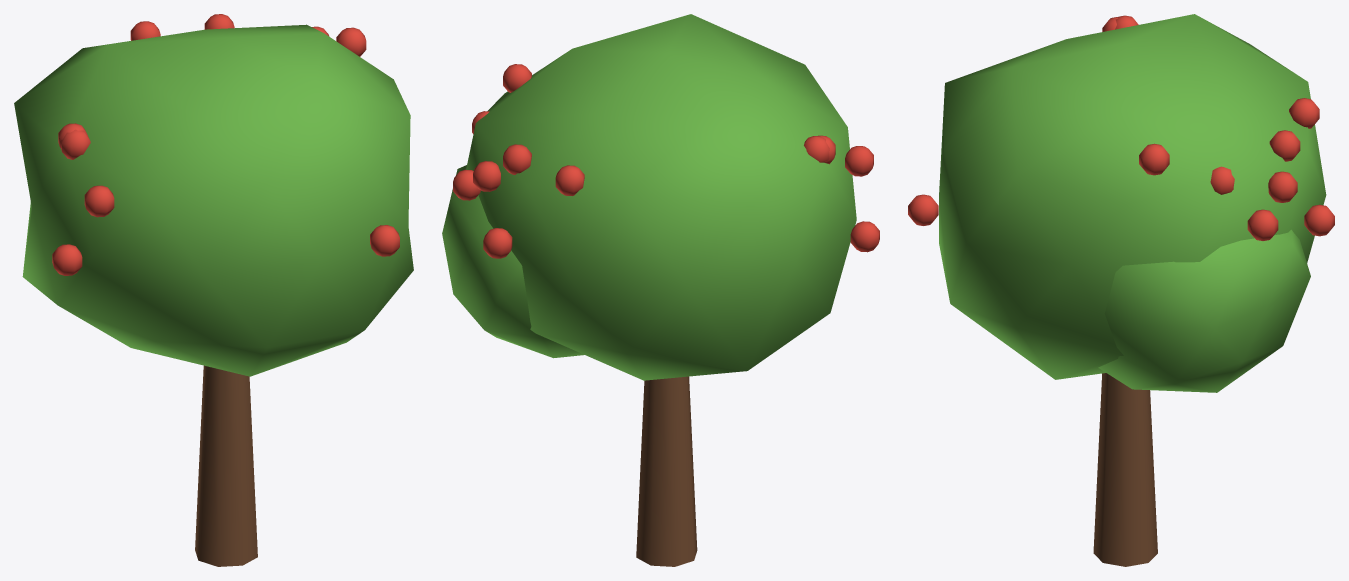
The model's file is prop_fruit_tree.glb.
3 renders of one model, left to right at view 1: azimuth 30°, elevation 25°; view 2: azimuth 150°, elevation 25°; view 3: azimuth 270°, elevation 25°, orthographic. The views are drawn at different scales.
Parts seen in each view (by area): view 1: Prop_Fruit_Tree; view 2: Prop_Fruit_Tree; view 3: Prop_Fruit_Tree.
Boxes of the visible parts, <box> form: Prop_Fruit_Tree: <box>14,14,413,566</box>; Prop_Fruit_Tree: <box>442,14,879,566</box>; Prop_Fruit_Tree: <box>908,14,1334,566</box>.
Bounding box in the file's own units: 2.74 × 3.49 × 2.65.
